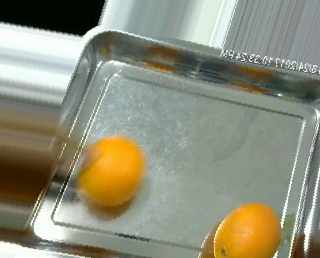Orange: (79, 137, 146, 207), (211, 202, 280, 258)
